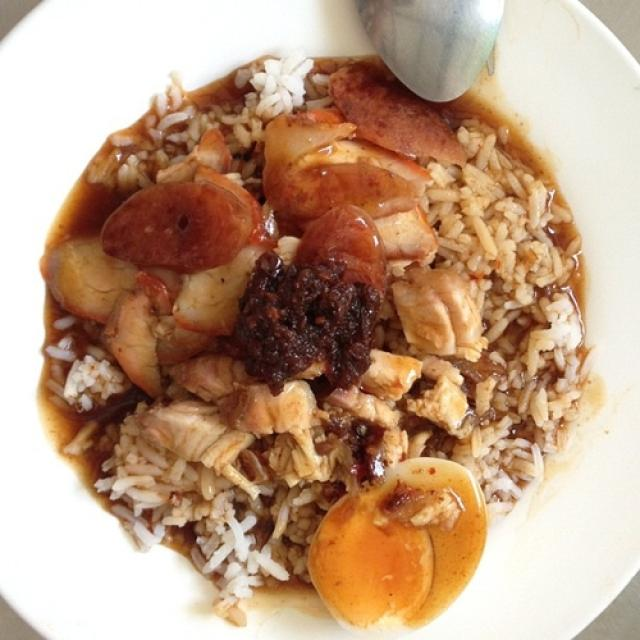猪肉菜式: (15, 18, 617, 634)
